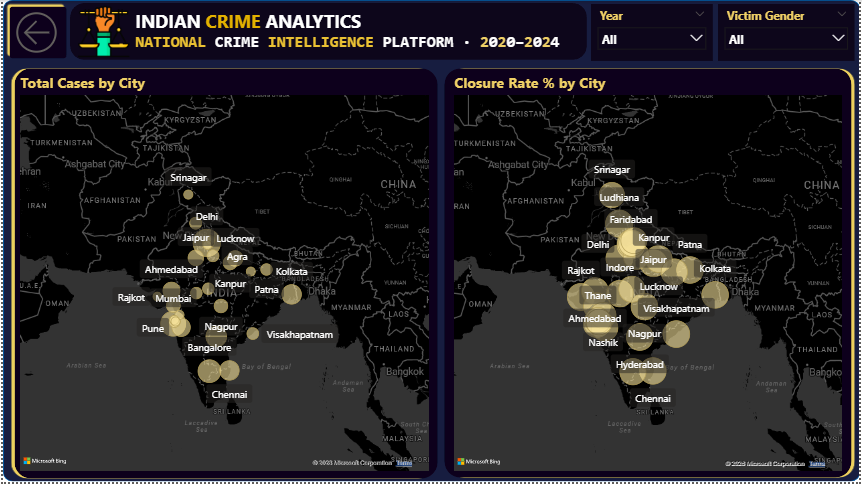

The page's visual inventory and layout, read from the dashboard file:
{"tool":"powerbi","page":{"name":"Geography","canvas":[1280,720],"ordinal":3},"visuals":[{"type":"shape","box":[0,0,1280.6,719.4],"z":0},{"type":"shape","box":[100,4.5,772.3,85],"z":1000},{"type":"textbox","box":[192,7.3,666.2,79.3],"z":2000},{"type":"image","box":[111.5,7.3,77.4,79.3],"z":3000},{"type":"slicer","fields":{"Values":["crime_india_powerbi_ready.Year"]},"box":[879,6.1,181.8,85],"z":4000},{"type":"shape","box":[12,97.1,642.3,622.9],"z":7000},{"type":"slicer","fields":{"Values":["crime_india_powerbi_ready.Victim Gender"]},"box":[1068.8,6.1,204.5,85],"z":8000},{"type":"shape","box":[4.5,4.5,95.5,87.9],"z":10000},{"type":"actionButton","box":[11.8,10.5,79,76.1],"z":11000},{"type":"shape","box":[654.3,97.1,618.4,621.4],"z":14000},{"type":"map","fields":{"Category":["crime_india_powerbi_ready.City"],"Size":["crime_india_powerbi_ready.Total Cases"]},"box":[20.9,109,619.9,599],"z":15001},{"type":"map","fields":{"Category":["crime_india_powerbi_ready.City"],"Size":["crime_india_powerbi_ready.Closure Rate %"]},"box":[669.2,109,588.5,600.5],"z":15002}]}

Visuals, with their boxes in screenshot pixels (x1, y1, x2, y2), scaled from the page's 1280x720 canvas onto the 862x484 screenshot:
shape: (left=0, top=0, right=861, bottom=483)
shape: (left=67, top=3, right=587, bottom=60)
textbox: (left=129, top=5, right=578, bottom=58)
image: (left=75, top=5, right=127, bottom=58)
slicer - crime_india_powerbi_ready.Year: (left=592, top=4, right=714, bottom=61)
shape: (left=8, top=65, right=441, bottom=483)
slicer - crime_india_powerbi_ready.Victim Gender: (left=720, top=4, right=857, bottom=61)
shape: (left=3, top=3, right=67, bottom=62)
actionButton: (left=8, top=7, right=61, bottom=58)
shape: (left=441, top=65, right=857, bottom=483)
map - crime_india_powerbi_ready.City x crime_india_powerbi_ready.Total Cases: (left=14, top=73, right=432, bottom=476)
map - crime_india_powerbi_ready.City x crime_india_powerbi_ready.Closure Rate %: (left=451, top=73, right=847, bottom=477)
